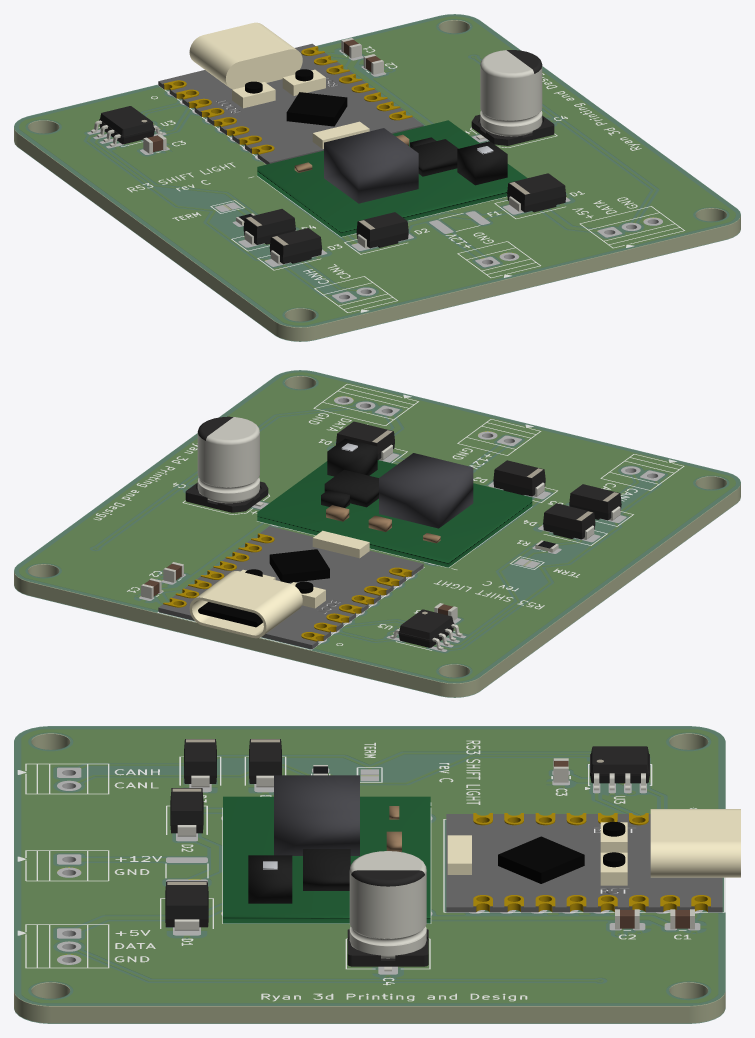
File: board.glb
The picture shows the model from 3 angles, top to bottom: view 1: azimuth 30°, elevation 25°; view 2: azimuth 150°, elevation 25°; view 3: azimuth 270°, elevation 25°; orthographic projection. The views are drawn at different scales.
Visible parts, largest first — view 1: =>[0:1:1:24], =>[0:1:1:20], =>[0:1:1:26], =>0:1:1:12, =>[0:1:1:9], =>[0:1:1:17], =>[0:1:1:23], =>[0:1:1:15] (×3), =>[0:1:1:21], =>[0:1:1:3], =>[0:1:1:7], =>[0:1:1:25]; view 2: =>[0:1:1:24], =>[0:1:1:20], =>[0:1:1:26], =>[0:1:1:9], =>0:1:1:12, =>[0:1:1:17], =>[0:1:1:15] (×3), =>[0:1:1:23], =>[0:1:1:21], =>[0:1:1:7], =>[0:1:1:3], =>[0:1:1:25]; view 3: =>[0:1:1:24], =>[0:1:1:20], =>0:1:1:12, =>[0:1:1:26], =>[0:1:1:9], =>[0:1:1:17], =>[0:1:1:23], =>[0:1:1:15] (×3), =>[0:1:1:21], =>[0:1:1:7], =>[0:1:1:3], =>[0:1:1:5] (×2) (+1 smaller).
Boxes of the visible parts, <box> form: =>[0:1:1:24]: <box>14,14,740,327</box>; =>[0:1:1:20]: <box>19,17,735,324</box>; =>[0:1:1:26]: <box>14,15,740,341</box>; =>0:1:1:12: <box>158,22,423,164</box>; =>[0:1:1:9]: <box>257,120,527,236</box>; =>[0:1:1:17]: <box>471,50,554,145</box>; =>[0:1:1:23]: <box>98,46,684,312</box>; =>[0:1:1:15] (×3): <box>243,209,408,264</box>; =>[0:1:1:21]: <box>87,50,662,302</box>; =>[0:1:1:3]: <box>507,173,566,212</box>; =>[0:1:1:7]: <box>91,106,162,146</box>; =>[0:1:1:25]: <box>14,142,740,341</box>; =>[0:1:1:24]: <box>14,370,740,683</box>; =>[0:1:1:20]: <box>19,373,735,680</box>; =>[0:1:1:26]: <box>14,371,740,697</box>; =>[0:1:1:9]: <box>257,438,532,567</box>; =>0:1:1:12: <box>158,526,423,649</box>; =>[0:1:1:17]: <box>185,416,268,512</box>; =>[0:1:1:15] (×3): <box>493,460,621,539</box>; =>[0:1:1:23]: <box>93,384,684,650</box>; =>[0:1:1:21]: <box>139,396,664,651</box>; =>[0:1:1:7]: <box>390,609,462,650</box>; =>[0:1:1:3]: <box>336,421,394,460</box>; =>[0:1:1:25]: <box>14,498,740,697</box>; =>[0:1:1:24]: <box>14,726,725,1005</box>; =>[0:1:1:20]: <box>22,730,717,1002</box>; =>0:1:1:12: <box>446,809,740,912</box>; =>[0:1:1:26]: <box>14,727,725,1023</box>; =>[0:1:1:9]: <box>223,775,430,923</box>; =>[0:1:1:17]: <box>347,851,428,971</box>; =>[0:1:1:23]: <box>17,740,725,1001</box>; =>[0:1:1:15] (×3): <box>170,739,281,836</box>; =>[0:1:1:21]: <box>57,767,702,974</box>; =>[0:1:1:7]: <box>590,746,649,790</box>; =>[0:1:1:3]: <box>165,881,208,930</box>; =>[0:1:1:5] (×2): <box>615,909,694,929</box>.
Size of the model in its own units: 0.054 by 0.00934 by 0.0593.
